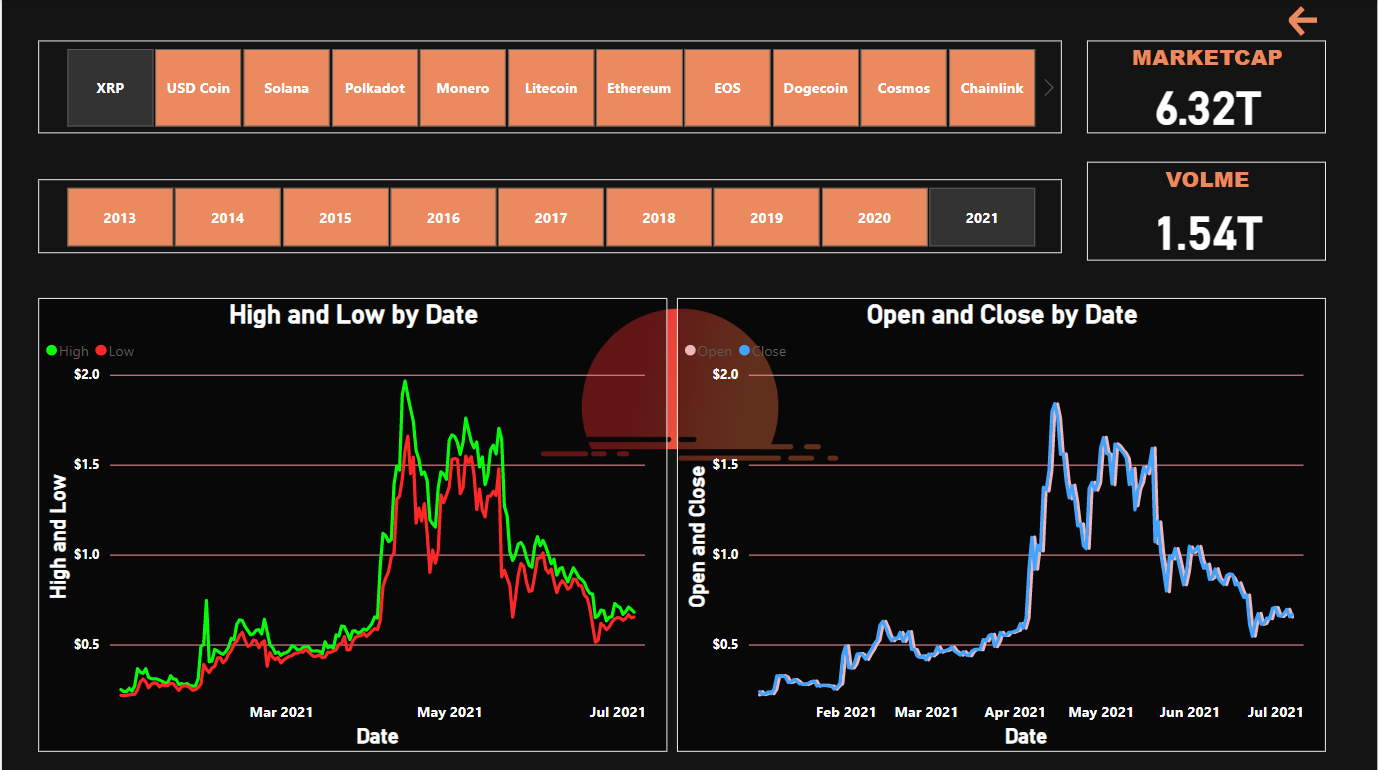

What the dashboard file says about the page in this screenshot:
{"tool":"powerbi","page":{"name":"PAGE 2","canvas":[1280,720],"ordinal":1},"visuals":[{"type":"slicer","fields":{"Values":["archive.Name"]},"box":[33.7,39.6,953,86.1],"z":0},{"type":"slicer","fields":{"Values":["archive.year "]},"box":[33.7,168.7,953,68.7],"z":1000},{"type":"lineChart","fields":{"Y":["Sum(archive.High)","Sum(archive.Low)"],"Category":["archive.Date"]},"box":[0,279.8,584.9,422.1],"z":2000},{"type":"card","title":"MARKETCAP","fields":{"Values":["Sum(archive.Marketcap)"]},"box":[1010,39.6,222.3,86.1],"z":3000},{"type":"card","title":"VOLME ","fields":{"Values":["Sum(archive.Volume)"]},"box":[1010,152.4,222.3,91.9],"z":4000},{"type":"lineChart","fields":{"Y":["Sum(archive.Open)","Sum(archive.Close)"],"Category":["archive.Date"]},"box":[628.4,279.3,603.9,422.4],"z":5000},{"type":"actionButton","box":[1193.9,3.5,39.6,36.1],"z":6000}]}

Visuals, with their boxes in screenshot pixels (x1, y1, x2, y2), scaled from the page's 1280x720 canvas onto the 1378x770 screenshot:
slicer - archive.Name: pyautogui.locateOnScreen(36, 42, 1062, 134)
slicer - archive.year : pyautogui.locateOnScreen(36, 180, 1062, 254)
lineChart - Sum(archive.High) x Sum(archive.Low): pyautogui.locateOnScreen(0, 299, 630, 751)
"MARKETCAP" card: pyautogui.locateOnScreen(1087, 42, 1327, 134)
"VOLME " card: pyautogui.locateOnScreen(1087, 163, 1327, 261)
lineChart - Sum(archive.Open) x Sum(archive.Close): pyautogui.locateOnScreen(677, 299, 1327, 750)
actionButton: pyautogui.locateOnScreen(1285, 4, 1328, 42)
